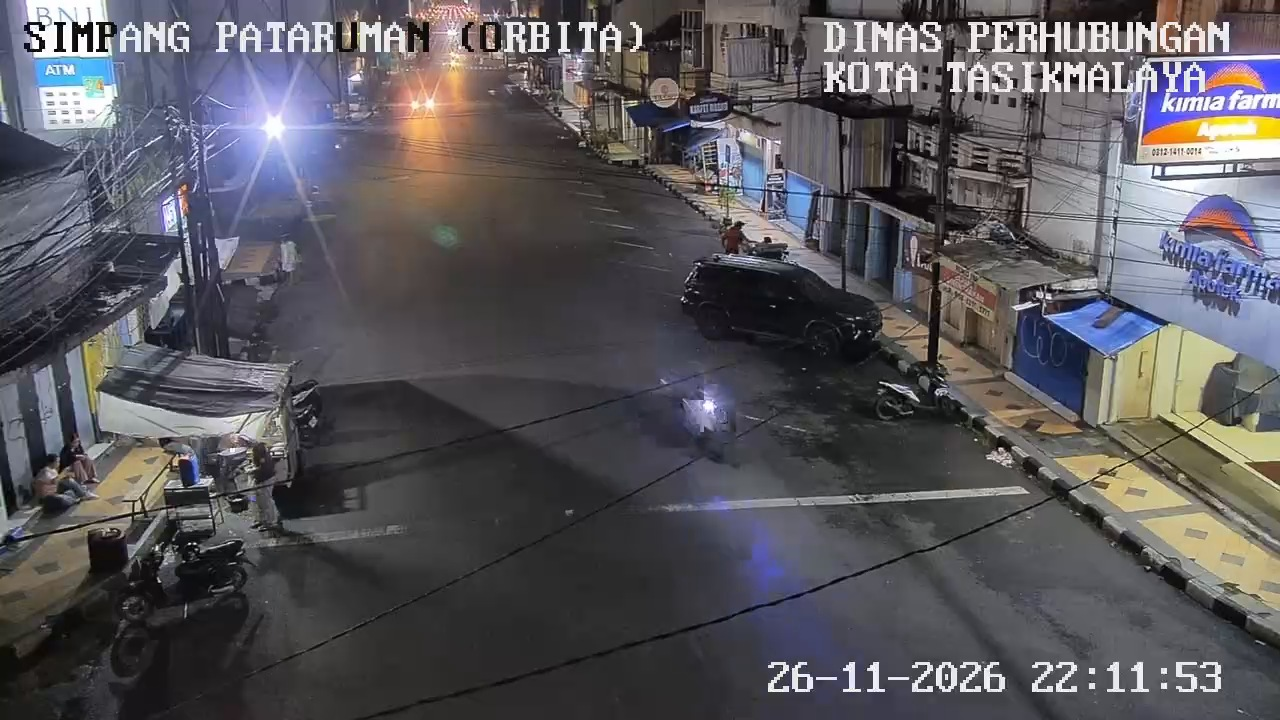Gerobak: (160, 450, 224, 536)
